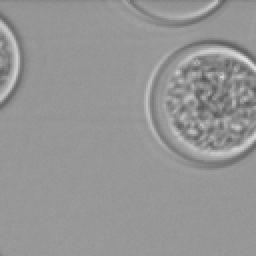picoshell: (146, 40, 254, 166), (122, 0, 224, 26), (0, 14, 20, 106)
